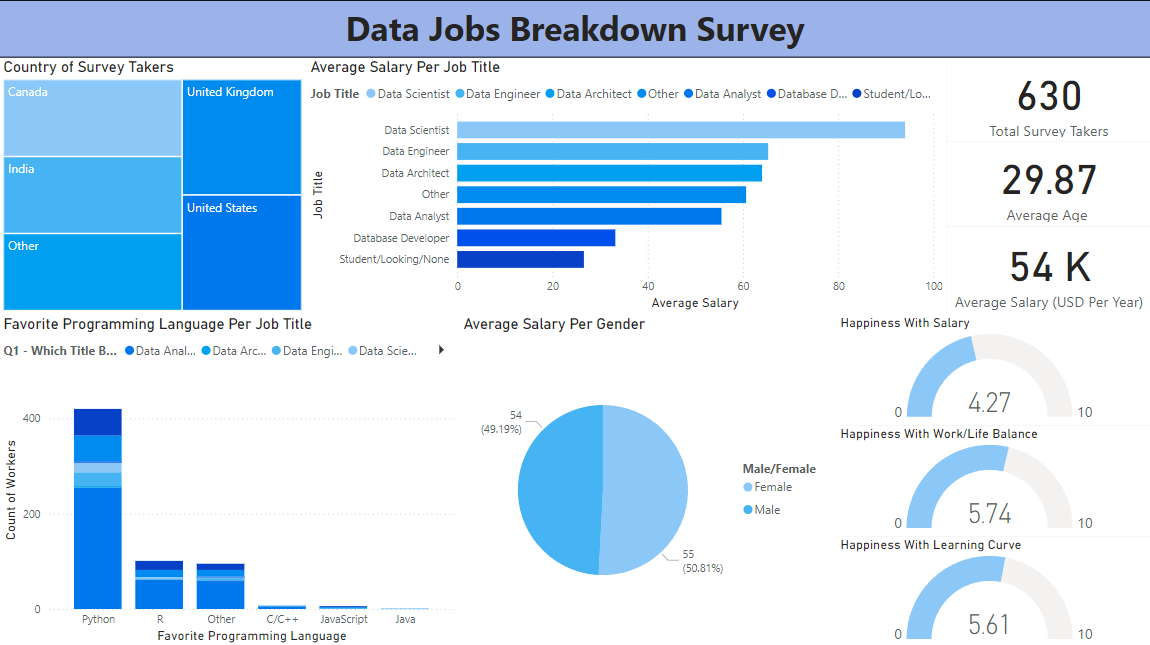

Layout of this report page (visuals, bound fields, positions):
{"tool":"powerbi","page":{"name":"Page 1","canvas":[1280,720],"ordinal":0},"visuals":[{"type":"textbox","box":[0,0,1280,64.2],"z":0},{"type":"card","fields":{"Values":["CountNonNull(Data Professional Survey.Unique ID)"]},"box":[1053.3,64.4,226.7,93.3],"z":1000},{"type":"card","fields":{"Values":["Avg(Data Professional Survey.Q10 - Current Age)"]},"box":[1053.3,157.8,226.7,94.4],"z":2000},{"type":"card","fields":{"Values":["Data Professional Survey.Average_Salary"]},"box":[1053.3,252.2,226.7,97.8],"z":3000},{"type":"barChart","title":"Average Salary Per Job Title","fields":{"Category":["Data Professional Survey.Q1 - Which Title Best Fits your Current Role?.1"],"Y":["Avg(Data Professional Survey.Average Salary)"],"Series":["Data Professional Survey.Q1 - Which Title Best Fits your Current Role?.1"]},"box":[341.1,64.4,712.2,285.6],"z":4000},{"type":"columnChart","title":"Favorite Programming Language Per Job Title","fields":{"Category":["Data Professional Survey.Q5 - Favorite Programming Language.1"],"Y":["CountNonNull(Data Professional Survey.Q1 - Which Title Best Fits your Current Role?.1)"],"Series":["Data Professional Survey.Q1 - Which Title Best Fits your Current Role?.1"]},"box":[0,350,511.1,370],"z":5000},{"type":"treemap","title":"Country of Survey Takers","fields":{"Group":["Data Professional Survey.Q11 - Which Country do you live in?.1"],"Values":["Count(Data Professional Survey.Q11 - Which Country do you live in?.1)"]},"box":[0,64.4,341.1,285.6],"z":6000},{"type":"gauge","title":"Happiness With Salary","fields":{"Y":["Avg(Data Professional Survey.Q6 - How Happy are you in your Current Position with the following? (Salary))"],"MinValue":["Min(Data Professional Survey.Q6 - How Happy are you in your Current Position with the following? (Salary))"],"MaxValue":["Max(Data Professional Survey.Q6 - How Happy are you in your Current Position with the following? (Salary))1"]},"box":[930,350,350,123],"z":7000},{"type":"gauge","title":"Happiness With Work/Life Balance","fields":{"Y":["Avg(Data Professional Survey.Q6 - How Happy are you in your Current Position with the following? (Work/Life Balance))"],"MinValue":["Min(Data Professional Survey.Q6 - How Happy are you in your Current Position with the following? (Work/Life Balance))"],"MaxValue":["Max(Data Professional Survey.Q6 - How Happy are you in your Current Position with the following? (Work/Life Balance))"]},"box":[930,473.3,350,123.3],"z":8000},{"type":"gauge","title":"Happiness With Learning Curve","fields":{"Y":["Avg(Data Professional Survey.Q6 - How Happy are you in your Current Position with the following? (Learning New Things))"],"MinValue":["Min(Data Professional Survey.Q6 - How Happy are you in your Current Position with the following? (Learning New Things))"],"MaxValue":["Max(Data Professional Survey.Q6 - How Happy are you in your Current Position with the following? (Learning New Things))"]},"box":[930,596.7,350,123.3],"z":9000},{"type":"pieChart","title":"Average Salary Per Gender","fields":{"Y":["Avg(Data Professional Survey.Average Salary)"],"Category":["Data Professional Survey.Q9 - Male/Female?"]},"box":[511.1,350,418.9,370],"z":10000}]}

Visuals, with their boxes in screenshot pixels (x1, y1, x2, y2), scaled from the page's 1280x720 canvas onto the 1150x645 screenshot:
textbox: l=0, t=0, r=1149, b=58
card - CountNonNull(Data Professional Survey.Unique ID): l=946, t=58, r=1149, b=141
card - Avg(Data Professional Survey.Q10 - Current Age): l=946, t=141, r=1149, b=226
card - Data Professional Survey.Average_Salary: l=946, t=226, r=1149, b=314
"Average Salary Per Job Title" barChart: l=306, t=58, r=946, b=314
"Favorite Programming Language Per Job Title" columnChart: l=0, t=314, r=459, b=644
"Country of Survey Takers" treemap: l=0, t=58, r=306, b=314
"Happiness With Salary" gauge: l=836, t=314, r=1149, b=424
"Happiness With Work/Life Balance" gauge: l=836, t=424, r=1149, b=534
"Happiness With Learning Curve" gauge: l=836, t=535, r=1149, b=644
"Average Salary Per Gender" pieChart: l=459, t=314, r=836, b=644
